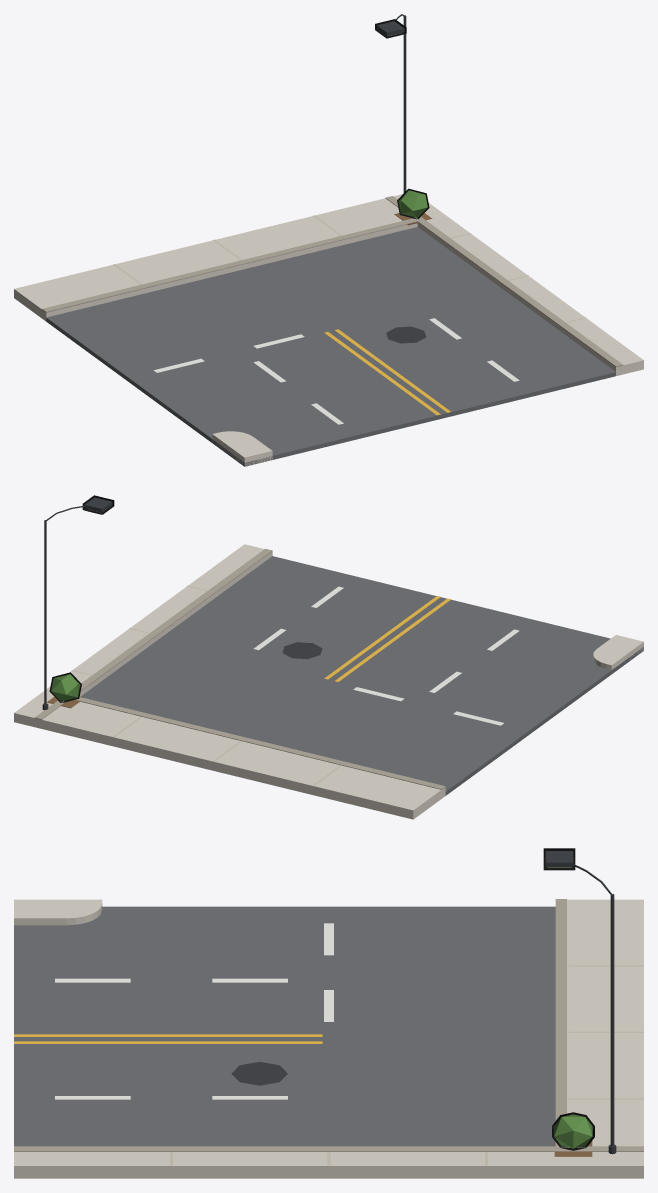
The model's file is Yol_kose_cs.fbx.
3 renders of one model, top to bottom at view 1: azimuth 30°, elevation 25°; view 2: azimuth 150°, elevation 25°; view 3: azimuth 270°, elevation 25°, orthographic. The views are drawn at different scales.
Visible parts, largest first — view 1: Yol_kose_cs; view 2: Yol_kose_cs; view 3: Yol_kose_cs.
Part boxes in pixels (x1=…): Yol_kose_cs: x1=14, y1=14, x2=643, y2=466; Yol_kose_cs: x1=14, y1=495, x2=643, y2=819; Yol_kose_cs: x1=14, y1=848, x2=643, y2=1178.
Bounding box in the file's own units: 10 × 5.04 × 10.
